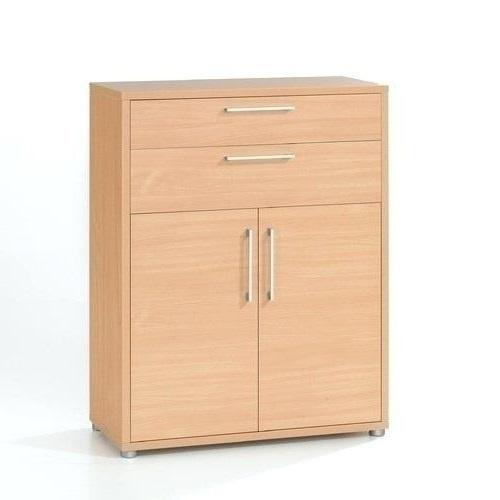cabinet_door: (134, 214, 262, 442), (261, 209, 385, 434), (131, 141, 378, 204), (130, 97, 378, 145)
handle: (219, 150, 297, 169), (222, 103, 295, 119), (265, 225, 279, 305), (245, 226, 255, 303)
